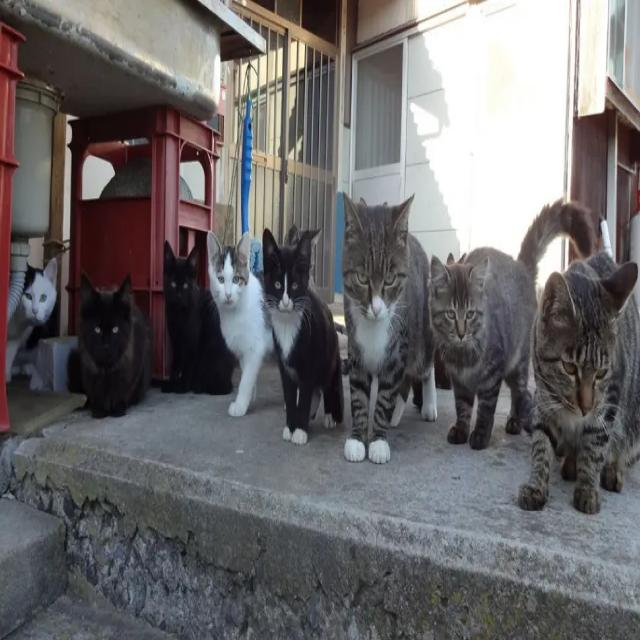cat: (431, 200, 594, 449), (519, 253, 640, 513), (342, 195, 438, 463), (262, 229, 344, 444), (68, 273, 152, 417), (208, 231, 274, 414), (162, 242, 234, 392), (6, 258, 58, 379)
